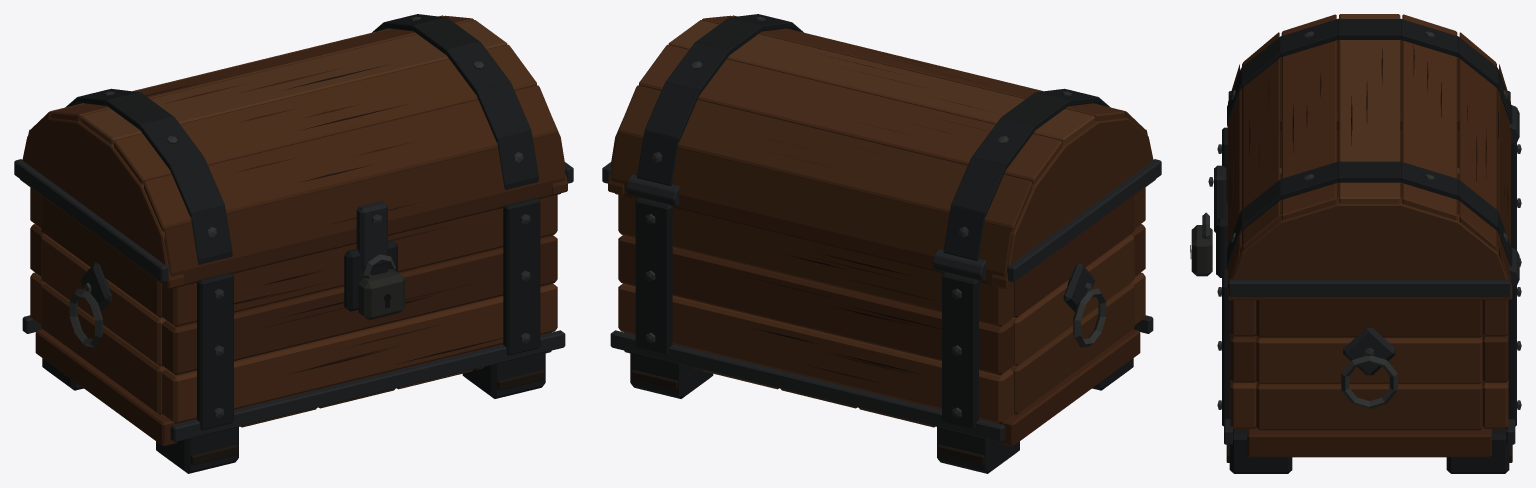
Rendered from DungeonChest.fbx.
The picture shows the model from 3 angles, left to right: view 1: azimuth 30°, elevation 25°; view 2: azimuth 150°, elevation 25°; view 3: azimuth 270°, elevation 25°; orthographic projection. The views are drawn at different scales.
Parts seen in each view (by area): view 1: ChestLid, ChestBody; view 2: ChestLid, ChestBody; view 3: ChestLid, ChestBody.
Part boxes in pixels (bbox=[...]): ChestLid: bbox=[14, 14, 573, 288]; ChestBody: bbox=[22, 187, 565, 473]; ChestLid: bbox=[602, 14, 1161, 288]; ChestBody: bbox=[610, 174, 1153, 473]; ChestLid: bbox=[1208, 14, 1512, 300]; ChestBody: bbox=[1190, 105, 1521, 473].
Bounding box in the file's own units: 1.3 × 0.902 × 0.9225.
Materials: 2 (2 with a texture image).
